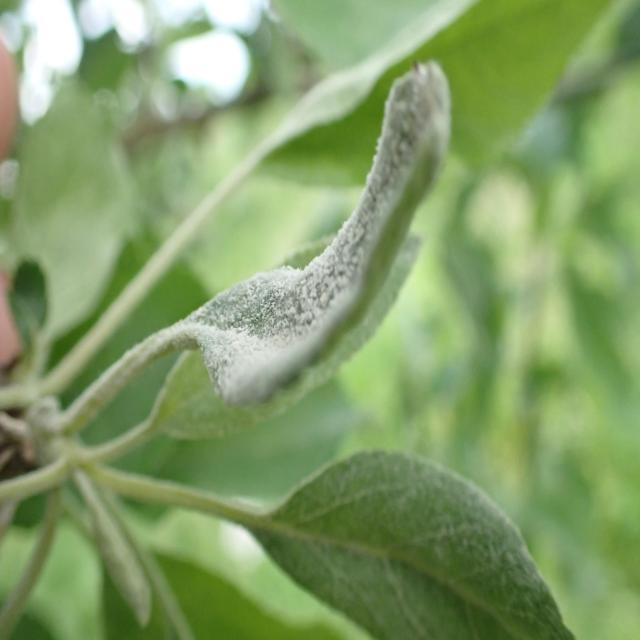Powdery_mildew: (182, 58, 456, 440), (233, 453, 565, 640)
